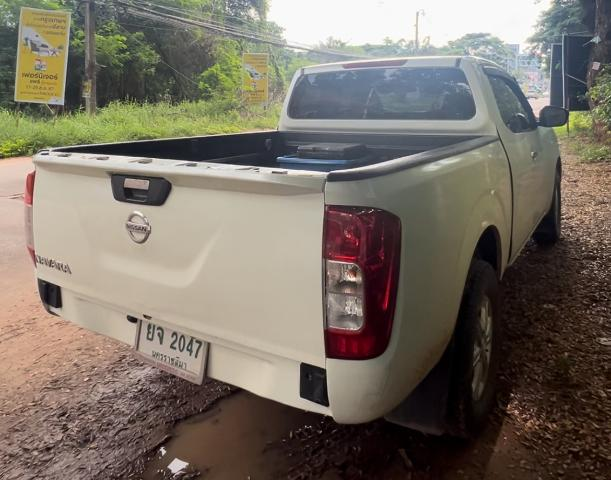pickup-truck: (6, 57, 568, 441)
